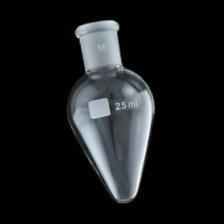Pear shaped flask: (62, 11, 153, 205)
